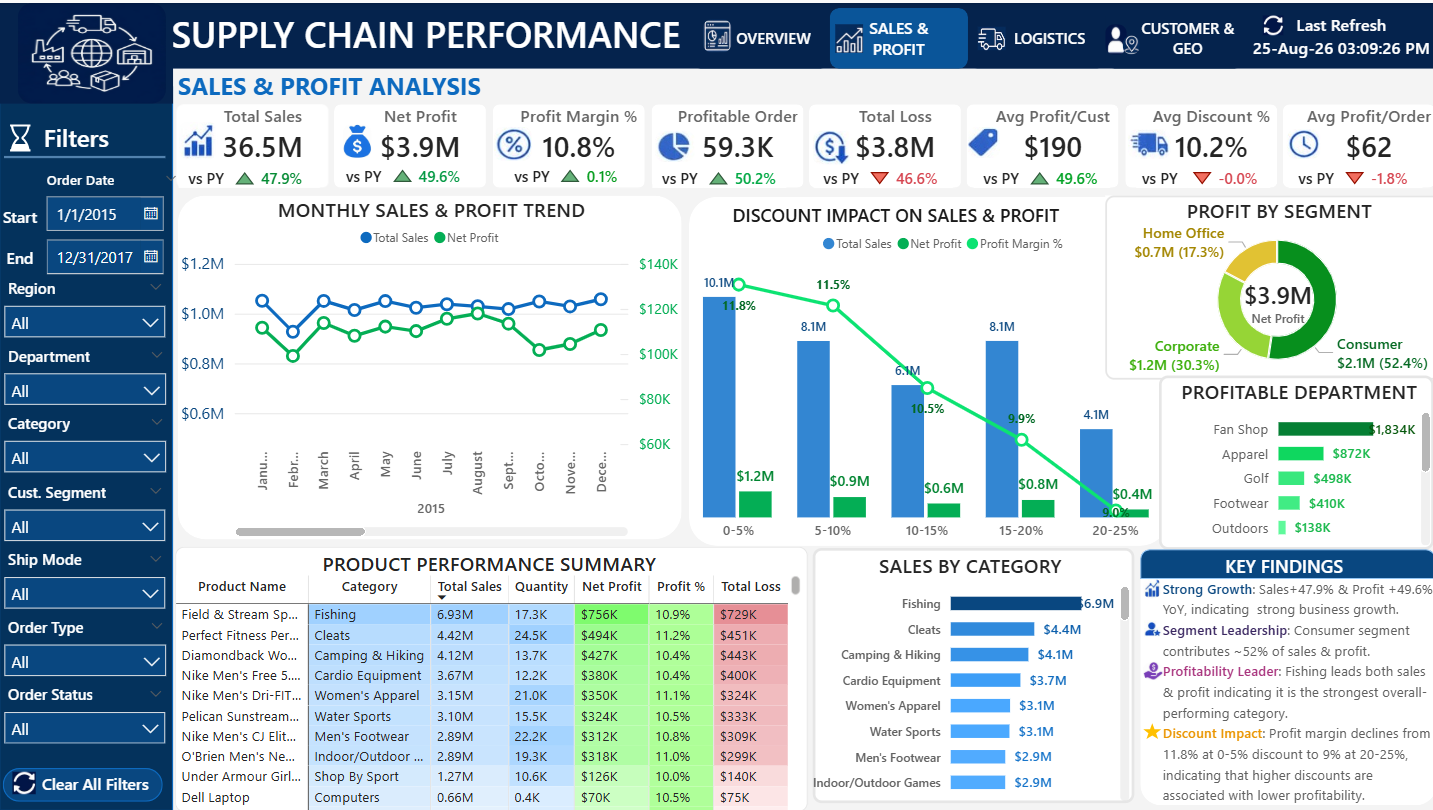

The page's visual inventory and layout, read from the dashboard file:
{"tool":"powerbi","page":{"name":"SALES & PROFIT","canvas":[1280,720],"ordinal":1},"visuals":[{"type":"image","box":[16.8,0,131.8,89.9],"z":0,"group":"g32"},{"type":"shape","box":[146.2,0,1133.8,58.7],"z":0},{"type":"pageNavigator","box":[616.5,4.7,493.5,54.1],"z":0,"group":"g34"},{"type":"image","box":[744.5,19,24.8,25.9],"z":0,"group":"g9"},{"type":"group","id":"g1","title":"Group 10","box":[985.1,19,30.6,27.2],"z":0,"group":"g16"},{"type":"group","id":"g2","title":"Group 9","box":[985.1,19,18.8,27.1],"z":0,"group":"g1"},{"type":"image","box":[985.1,19,18.8,27.1],"z":0,"group":"g2"},{"type":"image","box":[871.3,21.3,25,20.6],"z":0,"group":"g19"},{"type":"shape","box":[581.5,90.6,135.6,74.4],"z":0,"group":"g30"},{"type":"shape","box":[721.6,90.7,135.6,74.4],"z":0,"group":"g20"},{"type":"group","id":"g3","title":"Group 18","box":[158.6,91,135.6,74.6],"z":0,"group":"g36"},{"type":"shape","box":[158.6,91,135.6,74.4],"z":0,"group":"g3"},{"type":"shape","box":[299.4,91,135.6,74.4],"z":0,"group":"g10"},{"type":"shape","box":[440.1,91,135.6,74.4],"z":0,"group":"g17"},{"type":"shape","box":[862.4,91,135.6,74.4],"z":0,"group":"g31"},{"type":"shape","box":[1003.2,91,135.6,74.4],"z":0,"group":"g33"},{"type":"shape","box":[1143.9,91,135.6,74.4],"z":0,"group":"g35"},{"type":"textbox","box":[3.8,104.5,128.8,32.5],"z":0,"group":"g11"},{"type":"image","box":[161.2,106.7,34.4,33.8],"z":0,"group":"g22"},{"type":"image","box":[307,109,25.6,30.6],"z":0,"group":"g23"},{"type":"image","box":[863.7,110.8,29,28],"z":0,"group":"g24"},{"type":"image","box":[441.4,111.5,33.9,30.6],"z":0,"group":"g25"},{"type":"image","box":[725,113.6,36.1,30.6],"z":0,"group":"g26"},{"type":"image","box":[1005.7,113.6,38.8,26.2],"z":0,"group":"g27"},{"type":"image","box":[1146.9,113.6,30.6,26.2],"z":0,"group":"g28"},{"type":"image","box":[584.6,113.7,35,27.8],"z":0,"group":"g29"},{"type":"group","id":"g4","title":"Group 6","box":[0,149.5,166.3,563.8],"z":0,"group":"g21"},{"type":"group","id":"g5","title":"Group 4","box":[0,149.5,166.3,511.2],"z":0,"group":"g4"},{"type":"group","id":"g6","title":"Group 1","box":[34.7,149.5,131.2,97.5],"z":0,"group":"g12"},{"type":"slicer","fields":{"Values":["Dim_Date.Order_Date"]},"box":[34.7,149.5,131.2,97.5],"z":0,"group":"g6"},{"type":"shape","box":[159,171,448.8,306.2],"z":0,"group":"g38"},{"type":"group","id":"g7","title":"Group 17","box":[985,171,307,164],"z":0,"group":"g40"},{"type":"donutChart","title":"PROFIT BY SEGMENT","fields":{"Category":["Dim_Customer.Customer_Segment"],"Y":["_Measures.Net Profit"]},"box":[985,171,307,164],"z":0,"group":"g7"},{"type":"shape","box":[613.7,172,426.9,310.9],"z":0,"group":"g39"},{"type":"group","id":"g8","title":"Group 2","box":[0,245.7,153.8,415],"z":0,"group":"g5"},{"type":"pivotTable","title":"PRODUCT PERFORMANCE SUMMARY","fields":{"Rows":["Dim_Product.Product_Name"],"Values":["Min(Dim_Product.Category_Name)","_Measures.Total Sales","_Measures.Total Order Items","_Measures.Net Profit","_Measures.Profit Margin %","_Measures.Total Loss"]},"box":[157.1,483.9,563,236.2],"z":0,"group":"g37"},{"type":"shape","box":[725.3,485.4,286.7,227.1],"z":0,"group":"g41"},{"type":"shape","box":[1016,486,264,228],"z":0,"group":"g42"},{"type":"shape","box":[1016,486,263,26.7],"z":0,"group":"g45"},{"type":"slicer","fields":{"Values":["Dim_Ship.Ship_Mode"]},"box":[0,487.1,152.6,52.9],"z":0,"group":"g8"},{"type":"textbox","box":[1036,511,243,258],"z":0,"group":"g13"},{"type":"image","box":[1018.6,512,17,18],"z":0,"group":"g14"},{"type":"image","box":[1017,640.7,19,17],"z":0,"group":"g18"},{"type":"shape","box":[3.8,681.7,142.5,30],"z":0,"group":"g15"},{"type":"group","id":"g9","title":"Group 14","box":[744.5,19,24.1,25.3],"z":1000,"group":"g34"},{"type":"image","box":[1000.4,29,15.3,17.2],"z":1000,"group":"g1"},{"type":"shape","box":[0,75,155,645],"z":1000},{"type":"group","id":"g10","title":"Group 18","box":[299.4,91,135.6,74.4],"z":1000,"group":"g36"},{"type":"group","id":"g11","title":"Group 7","box":[3,104.5,144.5,45],"z":1000,"group":"g21"},{"type":"tableEx","fields":{"Values":["Table.Column1","_Measures.Profit YoY %"]},"box":[301.6,123.6,132.4,41],"z":1000,"group":"g10"},{"type":"tableEx","fields":{"Values":["Table.Column1","_Measures.Profit Margin Change YoY %"]},"box":[444,123.6,129.4,42],"z":1000,"group":"g17"},{"type":"shape","box":[3.8,124.5,143.8,25],"z":1000,"group":"g11"},{"type":"tableEx","fields":{"Values":["Table.Column1","_Measures.Avg Profit Per Order YoY %"]},"box":[1148.1,125.1,130,40],"z":1000,"group":"g35"},{"type":"tableEx","fields":{"Values":["Table.Column1","_Measures.Total Loss YoY %"]},"box":[724.8,125.2,130,40],"z":1000,"group":"g20"},{"type":"tableEx","fields":{"Values":["Table.Column1","_Measures.YoY Avg Profit Per Cust %"]},"box":[868.4,125.2,128.2,40],"z":1000,"group":"g31"},{"type":"tableEx","fields":{"Values":["Table.Column1","_Measures.Discount% Change YoY %"]},"box":[1012.2,125.2,124.5,40.9],"z":1000,"group":"g33"},{"type":"tableEx","fields":{"Values":["Table.Column1","_Measures.Total Profitable Orders YoY %"]},"box":[581.8,125.3,132.4,40.6],"z":1000,"group":"g30"},{"type":"tableEx","fields":{"Values":["Table.Column1","_Measures.Sales YoY %"]},"box":[160,125.6,132.4,40],"z":1000,"group":"g3"},{"type":"group","id":"g12","title":"Group 3","box":[1.3,149.5,165,106.2],"z":1000,"group":"g5"},{"type":"lineChart","title":"MONTHLY SALES & PROFIT TREND","fields":{"Category":["Dim_Date.Order_Date.Variation.Date Hierarchy.Year","Dim_Date.Order_Date.Variation.Date Hierarchy.Month"],"Y":["_Measures.Total Sales"],"Y2":["_Measures.Net Profit"]},"box":[161.5,172.2,447.5,302.5],"z":1000,"group":"g38"},{"type":"textbox","box":[1.3,180.3,35.1,75],"z":1000,"group":"g12"},{"type":"lineClusteredColumnComboChart","fields":{"Y":["_Measures.Total Sales","_Measures.Net Profit"],"Y2":["_Measures.Profit Margin %"],"Category":["Fact_Order.Discount_Range"]},"box":[593,200,498.8,283],"z":1000,"group":"g39"},{"type":"cardVisual","fields":{"Data":["_Measures.Net Profit"]},"box":[1106,243.3,65.1,44.1],"z":1000,"group":"g7"},{"type":"clusteredBarChart","title":"SALES BY CATEGORY","fields":{"Category":["Dim_Product.Category_Name"],"Y":["_Measures.Total Sales"]},"box":[724,482.5,285,228.6],"z":1000,"group":"g41"},{"type":"textbox","box":[1091.7,488.9,114.2,23.3],"z":1000,"group":"g45"},{"type":"group","id":"g13","title":"Group 23","box":[1017,511,262,258],"z":1000,"group":"g42"},{"type":"group","id":"g14","title":"Group 14","box":[1018.6,512,17,18],"z":1000,"group":"g13"},{"type":"slicer","fields":{"Values":["Fact_Order.Order_Type"]},"box":[0,547.5,153.8,52.9],"z":1000,"group":"g8"},{"type":"group","id":"g15","title":"Group 5","box":[3.8,679.5,145.3,33.8],"z":1000,"group":"g4"},{"type":"textbox","box":[30,686.7,111.2,26.2],"z":1000,"group":"g15"},{"type":"shape","box":[0,0,155,89.9],"z":2000},{"type":"group","id":"g16","title":"Group 11","box":[985.1,19,30.6,27.2],"z":2000,"group":"g34"},{"type":"cardVisual","fields":{"Data":["_Measures.Total Profitable Order"]},"box":[600.4,90.6,116.7,53],"z":2000,"group":"g30"},{"type":"cardVisual","fields":{"Data":["_Measures.Total Loss"]},"box":[740.5,90.7,116.7,53],"z":2000,"group":"g20"},{"type":"cardVisual","fields":{"Data":["_Measures.Total Sales"]},"box":[177.5,91,116.7,53],"z":2000,"group":"g3"},{"type":"cardVisual","fields":{"Data":["_Measures.Total Profit"]},"box":[318.3,91,116.7,53],"z":2000,"group":"g10"},{"type":"group","id":"g17","title":"Group 18","box":[440.1,91,135.6,74.6],"z":2000,"group":"g36"},{"type":"cardVisual","fields":{"Data":["_Measures.Profit Margin %"]},"box":[459,91,116.7,53],"z":2000,"group":"g17"},{"type":"cardVisual","fields":{"Data":["_Measures.Avg Profit by Cust"]},"box":[881.3,91,116.7,53],"z":2000,"group":"g31"},{"type":"cardVisual","fields":{"Data":["_Measures.Avg Discount %"]},"box":[1022.1,91,116.7,53],"z":2000,"group":"g33"},{"type":"cardVisual","fields":{"Data":["_Measures.Avg Profit Per Order"]},"box":[1162.8,91,116.7,53],"z":2000,"group":"g35"},{"type":"image","box":[3,105.5,31.2,29],"z":2000,"group":"g11"},{"type":"slicer","fields":{"Values":["Dim_Customer.Customer_Segment"]},"box":[0,426.8,152.6,52.9],"z":2000,"group":"g8"},{"type":"group","id":"g18","title":"Group 14","box":[1017,640.7,19,17],"z":2000,"group":"g13"},{"type":"image","box":[11,685.4,22.5,20],"z":2000,"group":"g15"},{"type":"group","id":"g19","title":"Group 12","box":[871.3,21.3,25.3,20.6],"z":3000,"group":"g34"},{"type":"group","id":"g20","title":"Group 18","box":[721.6,90.7,135.6,74.5],"z":3000,"group":"g36"},{"type":"group","id":"g21","title":"Group 8","box":[0,104.5,166.3,608.8],"z":3000},{"type":"group","id":"g22","title":"Group 14","box":[161.2,106.7,34.4,33.8],"z":3000,"group":"g3"},{"type":"group","id":"g23","title":"Group 14","box":[307,109,25.6,30.6],"z":3000,"group":"g10"},{"type":"group","id":"g24","title":"Group 14","box":[863.7,110.8,29,28],"z":3000,"group":"g31"},{"type":"group","id":"g25","title":"Group 14","box":[441.4,111.5,33.9,30.6],"z":3000,"group":"g17"},{"type":"group","id":"g26","title":"Group 14","box":[725,113.6,36.1,30.6],"z":3000,"group":"g20"},{"type":"group","id":"g27","title":"Group 14","box":[1005.7,113.6,38.8,26.2],"z":3000,"group":"g33"},{"type":"group","id":"g28","title":"Group 14","box":[1146.9,113.6,30.6,26.2],"z":3000,"group":"g35"},{"type":"group","id":"g29","title":"Group 14","box":[584.6,113.7,35,27.8],"z":3000,"group":"g30"},{"type":"image","box":[1018,587,18,17],"z":3000,"group":"g13"},{"type":"slicer","fields":{"Values":["Fact_Order.Order_Status"]},"box":[0,607.8,152.6,52.9],"z":3000,"group":"g8"},{"type":"actionButton","box":[4.1,679.5,145,33.8],"z":3000,"group":"g15"},{"type":"textbox","box":[153.4,6,465,43.1],"z":4000},{"type":"image","box":[1125.4,11.5,18.8,17.3],"z":4000,"group":"g44"},{"type":"image","box":[626.6,15.2,25.9,29.9],"z":4000,"group":"g34"},{"type":"group","id":"g30","title":"Group 18","box":[581.5,90.6,135.6,75.3],"z":4000,"group":"g36"},{"type":"slicer","fields":{"Values":["Dim_Department.Department_Name"]},"box":[0,306.1,153.8,52.9],"z":4000,"group":"g8"},{"type":"image","box":[1019.3,550,15.7,14.3],"z":4000,"group":"g13"},{"type":"textbox","box":[159,58.7,322.4,31.2],"z":5000},{"type":"group","id":"g31","title":"Group 18","box":[862.4,91,135.6,74.4],"z":5000,"group":"g36"},{"type":"slicer","fields":{"Values":["Dim_Location.Order_Region"]},"box":[0,245.7,152.6,52.9],"z":5000,"group":"g8"},{"type":"group","id":"g32","title":"Group 9","box":[16.8,0,131.8,89.9],"z":6000},{"type":"group","id":"g33","title":"Group 18","box":[1003.2,91,135.6,75.1],"z":6000,"group":"g36"},{"type":"slicer","fields":{"Values":["Dim_Product.Category_Name"]},"box":[0,366.4,153.8,52.9],"z":6000,"group":"g8"},{"type":"cardVisual","fields":{"Data":["Min(Last Refresh.Last Refresh)"]},"box":[1112.4,7.2,167.4,44.7],"z":6500,"group":"g44"},{"type":"group","id":"g34","title":"Group 13","box":[616.5,4.7,493.5,54.1],"z":7000},{"type":"group","id":"g35","title":"Group 18","box":[1143.9,91,135.6,74.4],"z":7000,"group":"g36"},{"type":"group","id":"g36","title":"Group 15","box":[158.6,90.6,1120.9,75.5],"z":8000},{"type":"group","id":"g37","title":"Group 19","box":[157.1,483.9,563,236.2],"z":9000},{"type":"group","id":"g38","title":"Group 20","box":[159,171,450,306.2],"z":10000},{"type":"group","id":"g39","title":"Group 21","box":[593,172,498.8,311],"z":11000},{"type":"group","id":"g40","title":"Group 16","box":[985,171,307,164],"z":12000},{"type":"group","id":"g41","title":"Group 22","box":[724,482.5,288,230],"z":13000},{"type":"clusteredBarChart","title":"PROFITABLE DEPARTMENT","fields":{"Y":["_Measures.Net Profit"],"Category":["Dim_Department.Department_Name"]},"box":[1033,332,245,155],"z":14000},{"type":"group","id":"g42","title":"Group 24","box":[1016,486,264,283],"z":15000},{"type":"group","id":"g43","title":"Group 20","box":[1016,486,263,26.7],"z":16000},{"type":"group","id":"g44","title":"Group 20","box":[1112.4,7.2,167.4,44.7],"z":17000},{"type":"textbox","box":[626.7,177,344,31.2],"z":17501},{"type":"group","id":"g45","title":"Group 25","box":[1016,486,263,26.7],"z":18001,"group":"g43"}]}

Visuals, with their boxes in screenshot pixels (x1, y1, x2, y2), scaled from the page's 1280x720 canvas onto the 1433x810 screenshot:
image: locate(19, 0, 166, 101)
shape: locate(164, 0, 1432, 66)
pageNavigator: locate(690, 5, 1243, 66)
image: locate(833, 21, 861, 51)
"Group 10" group: locate(1103, 21, 1137, 52)
"Group 9" group: locate(1103, 21, 1124, 52)
image: locate(1103, 21, 1124, 52)
image: locate(975, 24, 1003, 47)
shape: locate(651, 102, 803, 186)
shape: locate(808, 102, 960, 186)
"Group 18" group: locate(178, 102, 329, 186)
shape: locate(178, 102, 329, 186)
shape: locate(335, 102, 487, 186)
shape: locate(493, 102, 645, 186)
shape: locate(965, 102, 1117, 186)
shape: locate(1123, 102, 1275, 186)
shape: locate(1281, 102, 1432, 186)
textbox: locate(4, 118, 148, 154)
image: locate(180, 120, 219, 158)
image: locate(344, 123, 372, 157)
image: locate(967, 125, 999, 156)
image: locate(494, 125, 532, 160)
image: locate(812, 128, 852, 162)
image: locate(1126, 128, 1169, 157)
image: locate(1284, 128, 1318, 157)
image: locate(654, 128, 694, 159)
"Group 6" group: locate(0, 168, 186, 802)
"Group 4" group: locate(0, 168, 186, 743)
"Group 1" group: locate(39, 168, 186, 278)
slicer - Dim_Date.Order_Date: locate(39, 168, 186, 278)
shape: locate(178, 192, 680, 537)
"Group 17" group: locate(1103, 192, 1432, 377)
"PROFIT BY SEGMENT" donutChart: locate(1103, 192, 1432, 377)
shape: locate(687, 194, 1165, 543)
"Group 2" group: locate(0, 276, 172, 743)
"PRODUCT PERFORMANCE SUMMARY" pivotTable: locate(176, 544, 806, 809)
shape: locate(812, 546, 1133, 802)
shape: locate(1137, 547, 1432, 803)
shape: locate(1137, 547, 1432, 577)
slicer - Dim_Ship.Ship_Mode: locate(0, 548, 171, 608)
textbox: locate(1160, 575, 1432, 809)
image: locate(1140, 576, 1159, 596)
image: locate(1139, 721, 1160, 740)
shape: locate(4, 767, 164, 801)
"Group 14" group: locate(833, 21, 860, 50)
image: locate(1120, 33, 1137, 52)
shape: locate(0, 84, 174, 809)
"Group 18" group: locate(335, 102, 487, 186)
"Group 7" group: locate(3, 118, 165, 168)
tableEx - Table.Column1 x _Measures.Profit YoY %: locate(338, 139, 486, 185)
tableEx - Table.Column1 x _Measures.Profit Margin Change YoY %: locate(497, 139, 642, 186)
shape: locate(4, 140, 165, 168)
tableEx - Table.Column1 x _Measures.Avg Profit Per Order YoY %: locate(1285, 141, 1431, 186)
tableEx - Table.Column1 x _Measures.Total Loss YoY %: locate(811, 141, 957, 186)
tableEx - Table.Column1 x _Measures.YoY Avg Profit Per Cust %: locate(972, 141, 1116, 186)
tableEx - Table.Column1 x _Measures.Discount% Change YoY %: locate(1133, 141, 1273, 187)
tableEx - Table.Column1 x _Measures.Total Profitable Orders YoY %: locate(651, 141, 800, 187)
tableEx - Table.Column1 x _Measures.Sales YoY %: locate(179, 141, 327, 186)
"Group 3" group: locate(1, 168, 186, 288)
"MONTHLY SALES & PROFIT TREND" lineChart: locate(181, 194, 682, 534)
textbox: locate(1, 203, 41, 287)
lineClusteredColumnComboChart - _Measures.Total Sales x _Measures.Net Profit: locate(664, 225, 1222, 543)
cardVisual - _Measures.Net Profit: locate(1238, 274, 1311, 323)
"SALES BY CATEGORY" clusteredBarChart: locate(811, 543, 1130, 800)
textbox: locate(1222, 550, 1350, 576)
"Group 23" group: locate(1139, 575, 1432, 809)
"Group 14" group: locate(1140, 576, 1159, 596)
slicer - Fact_Order.Order_Type: locate(0, 616, 172, 675)
"Group 5" group: locate(4, 764, 167, 802)
textbox: locate(34, 773, 158, 802)
shape: locate(0, 0, 174, 101)
"Group 11" group: locate(1103, 21, 1137, 52)
cardVisual - _Measures.Total Profitable Order: locate(672, 102, 803, 162)
cardVisual - _Measures.Total Loss: locate(829, 102, 960, 162)
cardVisual - _Measures.Total Sales: locate(199, 102, 329, 162)
cardVisual - _Measures.Total Profit: locate(356, 102, 487, 162)
"Group 18" group: locate(493, 102, 645, 186)
cardVisual - _Measures.Profit Margin %: locate(514, 102, 645, 162)
cardVisual - _Measures.Avg Profit by Cust: locate(987, 102, 1117, 162)
cardVisual - _Measures.Avg Discount %: locate(1144, 102, 1275, 162)
cardVisual - _Measures.Avg Profit Per Order: locate(1302, 102, 1432, 162)
image: locate(3, 119, 38, 151)
slicer - Dim_Customer.Customer_Segment: locate(0, 480, 171, 540)
"Group 14" group: locate(1139, 721, 1160, 740)
image: locate(12, 771, 38, 794)
"Group 12" group: locate(975, 24, 1004, 47)
"Group 18" group: locate(808, 102, 960, 186)
"Group 8" group: locate(0, 118, 186, 802)
"Group 14" group: locate(180, 120, 219, 158)
"Group 14" group: locate(344, 123, 372, 157)
"Group 14" group: locate(967, 125, 999, 156)
"Group 14" group: locate(494, 125, 532, 160)
"Group 14" group: locate(812, 128, 852, 162)
"Group 14" group: locate(1126, 128, 1169, 157)
"Group 14" group: locate(1284, 128, 1318, 157)
"Group 14" group: locate(654, 128, 694, 159)
image: locate(1140, 660, 1160, 680)
slicer - Fact_Order.Order_Status: locate(0, 684, 171, 743)
actionButton: locate(5, 764, 167, 802)
textbox: locate(172, 7, 692, 55)
image: locate(1260, 13, 1281, 32)
image: locate(701, 17, 730, 51)
"Group 18" group: locate(651, 102, 803, 187)
slicer - Dim_Department.Department_Name: locate(0, 344, 172, 404)
image: locate(1141, 619, 1159, 635)
textbox: locate(178, 66, 539, 101)
"Group 18" group: locate(965, 102, 1117, 186)
slicer - Dim_Location.Order_Region: locate(0, 276, 171, 336)
"Group 9" group: locate(19, 0, 166, 101)
"Group 18" group: locate(1123, 102, 1275, 187)
slicer - Dim_Product.Category_Name: locate(0, 412, 172, 472)
cardVisual - Min(Last Refresh.Last Refresh): locate(1245, 8, 1432, 58)
"Group 13" group: locate(690, 5, 1243, 66)
"Group 18" group: locate(1281, 102, 1432, 186)
"Group 15" group: locate(178, 102, 1432, 187)
"Group 19" group: locate(176, 544, 806, 809)
"Group 20" group: locate(178, 192, 682, 537)
"Group 21" group: locate(664, 194, 1222, 543)
"Group 16" group: locate(1103, 192, 1432, 377)
"Group 22" group: locate(811, 543, 1133, 802)
"PROFITABLE DEPARTMENT" clusteredBarChart: locate(1156, 374, 1431, 548)
"Group 24" group: locate(1137, 547, 1432, 809)
"Group 20" group: locate(1137, 547, 1432, 577)
"Group 20" group: locate(1245, 8, 1432, 58)
textbox: locate(702, 199, 1087, 234)
"Group 25" group: locate(1137, 547, 1432, 577)
